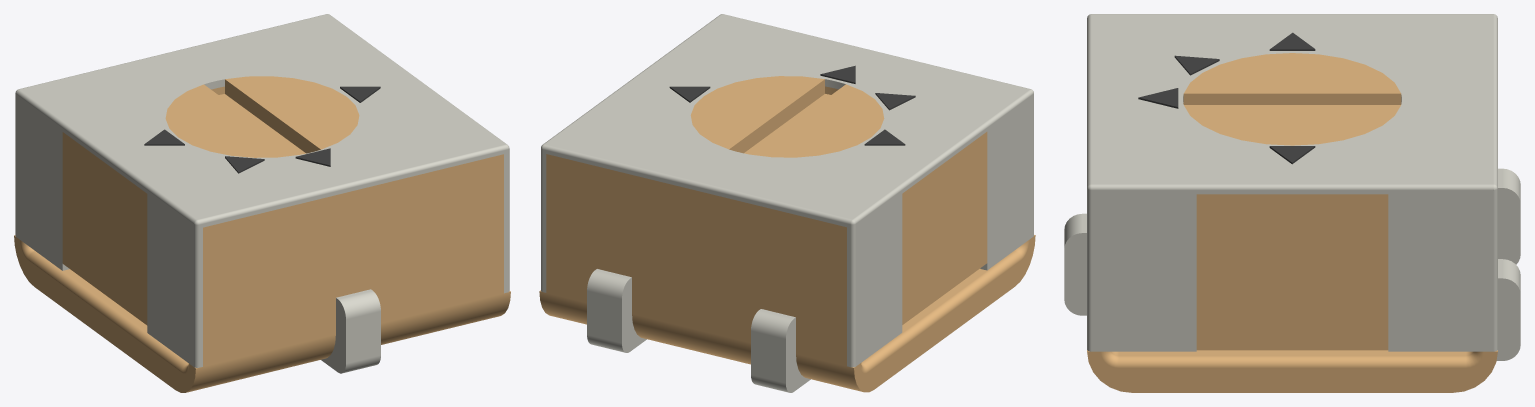
File: Potentiometer_Bourns_3314J_Vertical.glb
3 renders of one model, left to right at view 1: azimuth 30°, elevation 25°; view 2: azimuth 150°, elevation 25°; view 3: azimuth 270°, elevation 25°, orthographic. The views are drawn at different scales.
Visible parts, largest first — view 1: =>[0:1:1:3]; view 2: =>[0:1:1:3]; view 3: =>[0:1:1:3].
Boxes of the visible parts, <box> form: =>[0:1:1:3]: <box>14,14,510,392</box>; =>[0:1:1:3]: <box>539,14,1035,392</box>; =>[0:1:1:3]: <box>1064,14,1520,392</box>.
Size of the model in its own units: 0.0045 by 0.00252 by 0.005.
